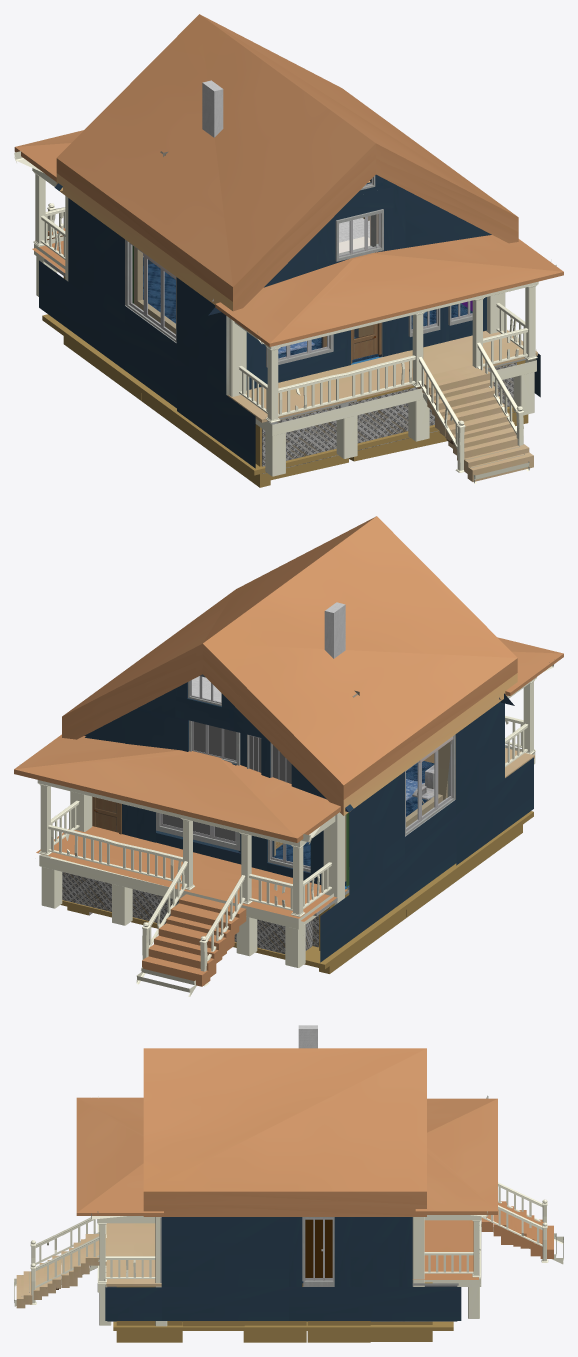
Rendered from GumballHouse.glb.
3 views of the same model, one above another, from view 1: azimuth 30°, elevation 25°; view 2: azimuth 150°, elevation 25°; view 3: azimuth 270°, elevation 25° (orthographic). The views are drawn at different scales.
Parts seen in each view (by area): view 1: object1034, Door5; view 2: object1034; view 3: object1034.
Boxes of the visible parts, bbox=[...] form: object1034: bbox=[14, 14, 563, 487]; Door5: bbox=[352, 323, 377, 359]; object1034: bbox=[14, 516, 563, 996]; object1034: bbox=[14, 1025, 563, 1342].
Size of the model in its own units: 17.06 by 16.19 by 33.46.
49 materials, 42 textured.
